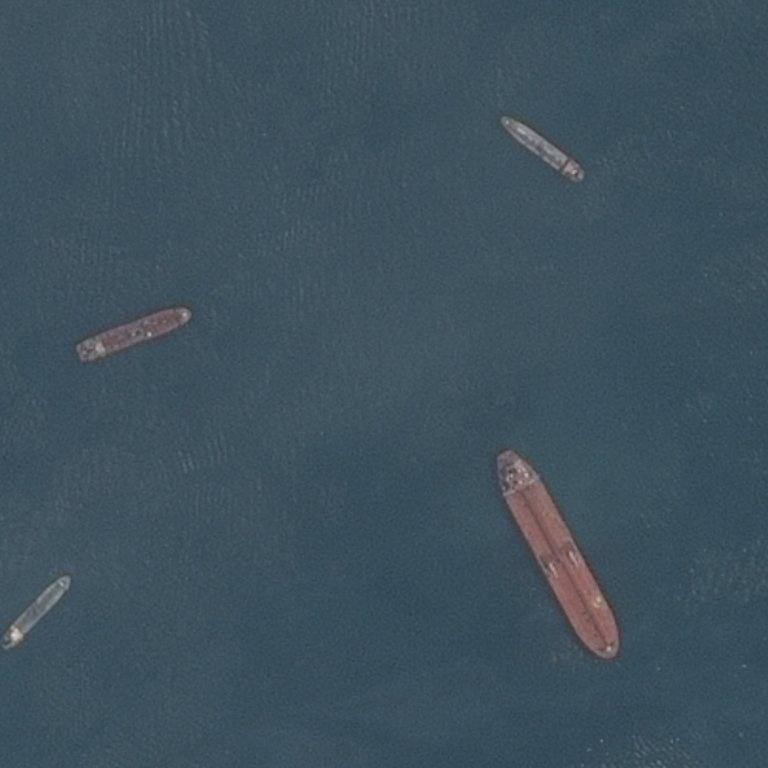ship: (528, 444, 586, 665), (32, 306, 77, 364), (534, 35, 551, 111), (600, 643, 620, 661), (182, 306, 192, 321), (498, 114, 508, 124), (579, 163, 587, 175), (569, 23, 580, 31), (74, 339, 81, 351), (507, 447, 516, 455), (63, 576, 71, 585), (2, 613, 71, 614), (80, 354, 88, 362), (495, 453, 502, 461), (2, 615, 7, 625), (6, 644, 11, 650)
